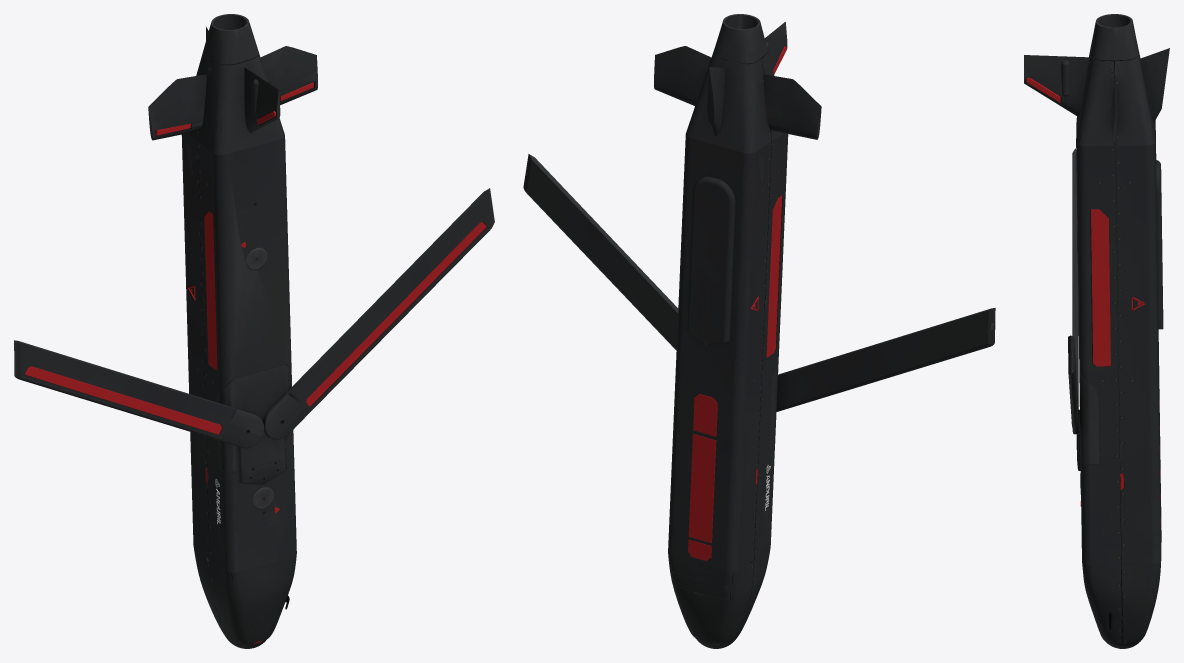
The picture shows the model from 3 angles, left to right: view 1: azimuth 30°, elevation 25°; view 2: azimuth 150°, elevation 25°; view 3: azimuth 270°, elevation 25°; orthographic projection. The views are drawn at different scales.
Visible parts, largest first — view 1: B500_Baked; view 2: B500_Baked; view 3: B500_Baked.
Boxes of the visible parts, box(x1,y1,x2,y2) form: B500_Baked: box(14, 14, 494, 648); B500_Baked: box(523, 14, 995, 648); B500_Baked: box(1024, 14, 1169, 648).
Bounding box in the file's own units: 0.1726 × 0.2182 × 0.0468.
Materials: 3 (3 with a texture image).
